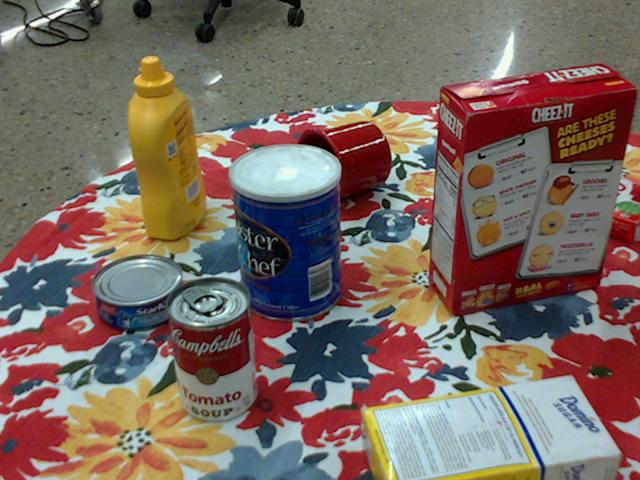cracker_box: (431, 65, 638, 316)
gelatin_box: (570, 174, 639, 242)
large_marker: (438, 143, 536, 166)
master_chef_can: (228, 143, 340, 322)
mug: (293, 121, 391, 210)
mustard_bottle: (128, 57, 205, 240)
sugar_box: (361, 374, 622, 479)
tomato_soup_can: (164, 275, 255, 421)
tuna_fish_can: (91, 253, 183, 329)
